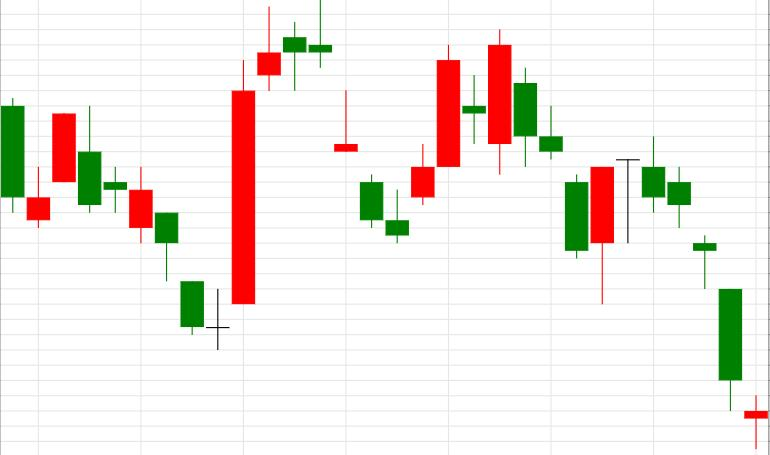morning_star_rise: (78, 61, 255, 350), (283, 0, 434, 243)
